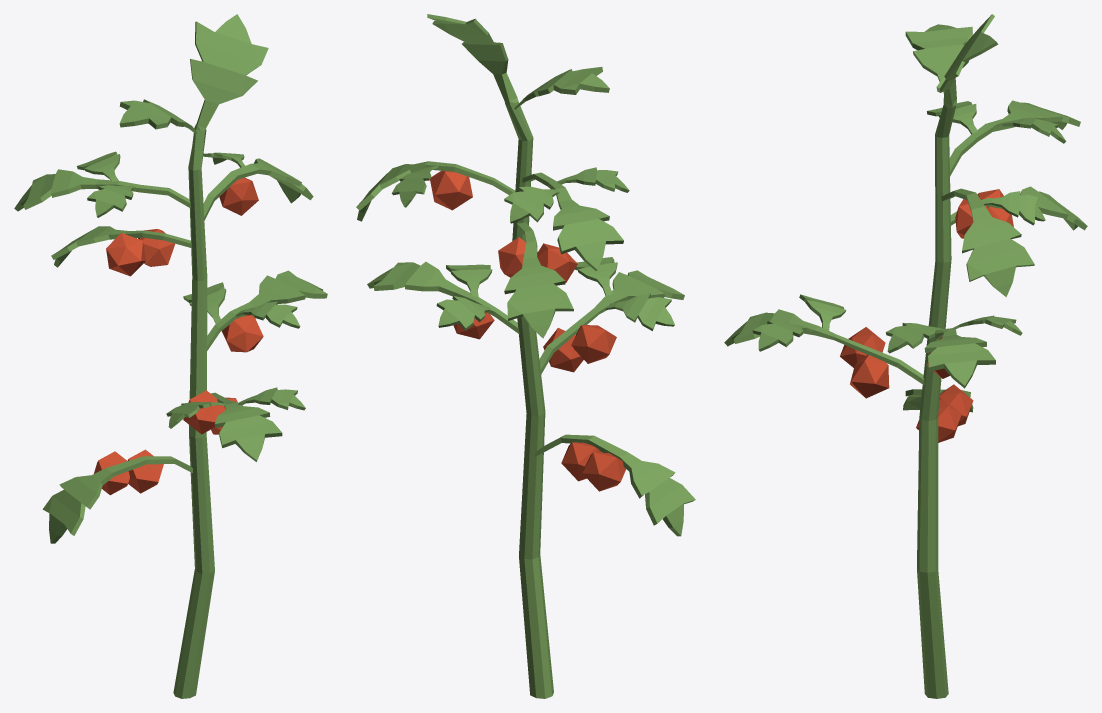
Rendered from Tomato_4.glb.
The picture shows the model from 3 angles, left to right: view 1: azimuth 30°, elevation 25°; view 2: azimuth 150°, elevation 25°; view 3: azimuth 270°, elevation 25°; orthographic projection. The views are drawn at different scales.
Parts seen in each view (by area): view 1: Tomato_4_Icosphere.013; view 2: Tomato_4_Icosphere.013; view 3: Tomato_4_Icosphere.013.
Part boxes in pixels (x1=…): Tomato_4_Icosphere.013: x1=14, y1=14, x2=327, y2=698; Tomato_4_Icosphere.013: x1=356, y1=14, x2=695, y2=698; Tomato_4_Icosphere.013: x1=724, y1=14, x2=1087, y2=698.
Bounding box in the file's own units: 0.7932 × 1.72 × 0.81.
